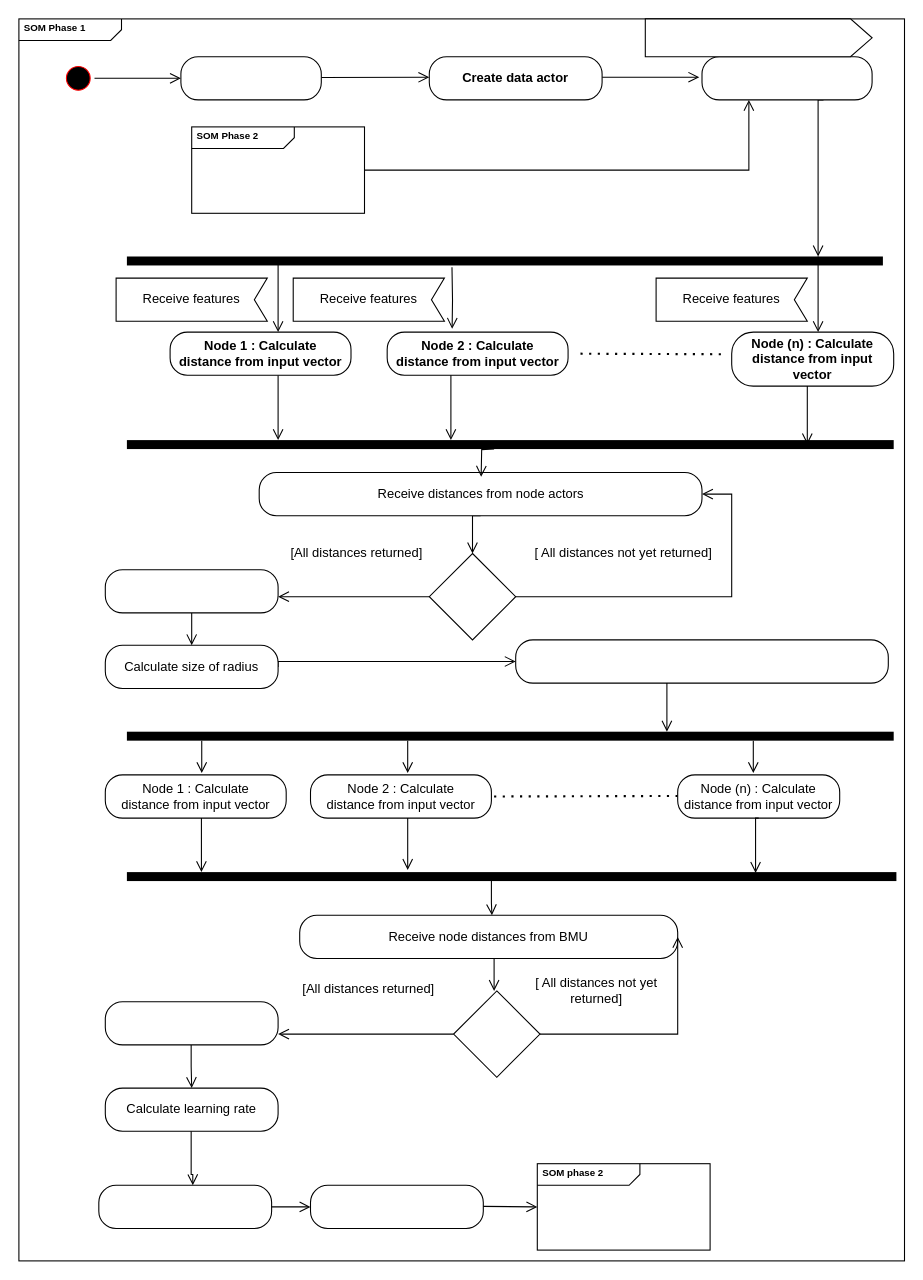
This 923x1280 diagram has some shape labels left out. The shapes that lost their labels are listed below. From the top down, each one's centre as x and y in pixels, then its label:
At (758,37): "send features to nodes to calculate distance".
At (250,78): "Spawn node Actors".
At (786,78): "Send features to node actors".
At (191,591): "Calculate BMU".
At (701,661): "Tell node actors to calculate euclidean distance from BMU".
At (191,1023): "Find node neighbourhood".
At (185,1206): "Adjust BMU".
At (396,1206): "Adjust neighbourhood".
